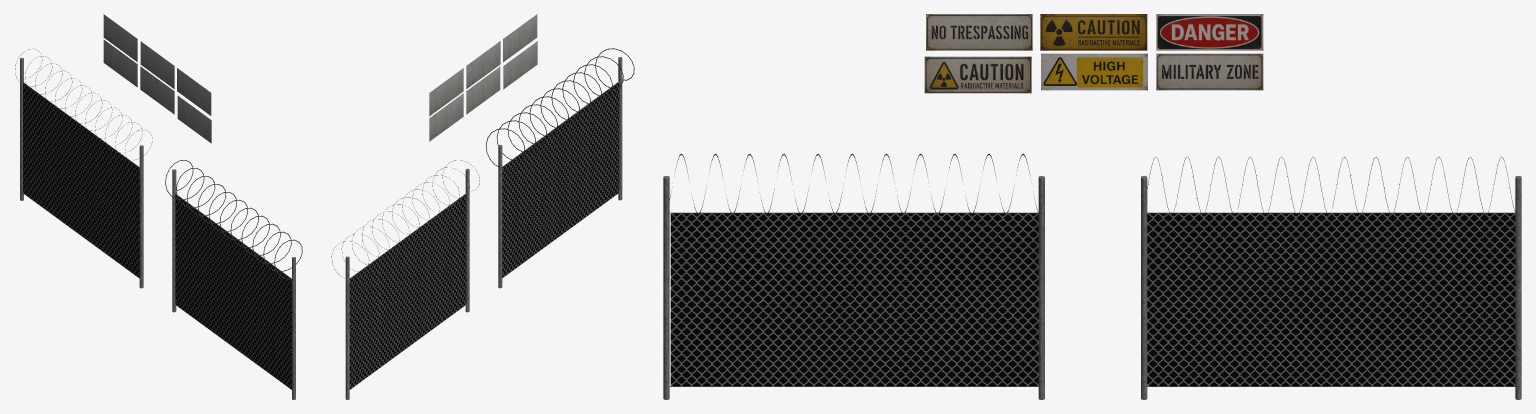
Rendered from Fence.fbx.
The picture shows the model from 3 angles, left to right: view 1: azimuth 30°, elevation 25°; view 2: azimuth 150°, elevation 25°; view 3: azimuth 270°, elevation 25°; orthographic projection. The views are drawn at different scales.
Parts seen in each view (by area): view 1: Fence0, Fence1, BWire1, Danger, HighVoltage, MilitaryZone, NoTrespassing, RadioactiveWhite, RadioactiveYellow, Cylinder0.001, BWire0, Cylinder1.001 (+2 smaller); view 2: Fence0, Fence1, BWire1, Danger, HighVoltage, MilitaryZone, NoTrespassing, RadioactiveWhite, RadioactiveYellow, Cylinder1.001, Cylinder0, BWire0 (+2 smaller); view 3: Fence0, Fence1, MilitaryZone, RadioactiveWhite, HighVoltage, Danger, RadioactiveYellow, NoTrespassing, Cylinder0, Cylinder0.001, Cylinder1, Cylinder1.001 (+2 smaller).
Part boxes in pixels (x1=…): Fence0: x1=23, y1=83, x2=139, y2=277; Fence1: x1=175, y1=194, x2=291, y2=389; BWire1: x1=165, y1=160, x2=302, y2=279; Danger: x1=103, y1=14, x2=137, y2=61; HighVoltage: x1=140, y1=66, x2=174, y2=114; MilitaryZone: x1=103, y1=39, x2=137, y2=87; NoTrespassing: x1=177, y1=68, x2=211, y2=115; RadioactiveWhite: x1=177, y1=96, x2=211, y2=143; RadioactiveYellow: x1=140, y1=41, x2=174, y2=88; Cylinder0.001: x1=139, y1=145, x2=143, y2=288; BWire0: x1=15, y1=48, x2=152, y2=167; Cylinder1.001: x1=172, y1=169, x2=176, y2=312; Fence0: x1=349, y1=194, x2=466, y2=389; Fence1: x1=502, y1=82, x2=618, y2=277; BWire1: x1=485, y1=48, x2=634, y2=166; Danger: x1=429, y1=68, x2=463, y2=116; HighVoltage: x1=466, y1=66, x2=500, y2=114; MilitaryZone: x1=429, y1=93, x2=463, y2=141; NoTrespassing: x1=503, y1=14, x2=537, y2=62; RadioactiveWhite: x1=503, y1=41, x2=537, y2=89; RadioactiveYellow: x1=466, y1=41, x2=500, y2=88; Cylinder1.001: x1=498, y1=144, x2=502, y2=288; Cylinder0: x1=345, y1=256, x2=349, y2=399; BWire0: x1=331, y1=160, x2=479, y2=278; Fence0: x1=1147, y1=213, x2=1515, y2=386; Fence1: x1=670, y1=213, x2=1038, y2=386; MilitaryZone: x1=1156, y1=53, x2=1263, y2=90; RadioactiveWhite: x1=924, y1=56, x2=1031, y2=93; HighVoltage: x1=1041, y1=53, x2=1147, y2=90; Danger: x1=1156, y1=14, x2=1263, y2=50; RadioactiveYellow: x1=1040, y1=14, x2=1147, y2=50; NoTrespassing: x1=926, y1=14, x2=1032, y2=50; Cylinder0: x1=1515, y1=176, x2=1521, y2=399; Cylinder0.001: x1=1141, y1=176, x2=1147, y2=399; Cylinder1: x1=663, y1=176, x2=669, y2=399; Cylinder1.001: x1=1038, y1=176, x2=1044, y2=399.
Size of the model in its own units: 199 by 1329 by 2687.
3 materials, 3 textured.
